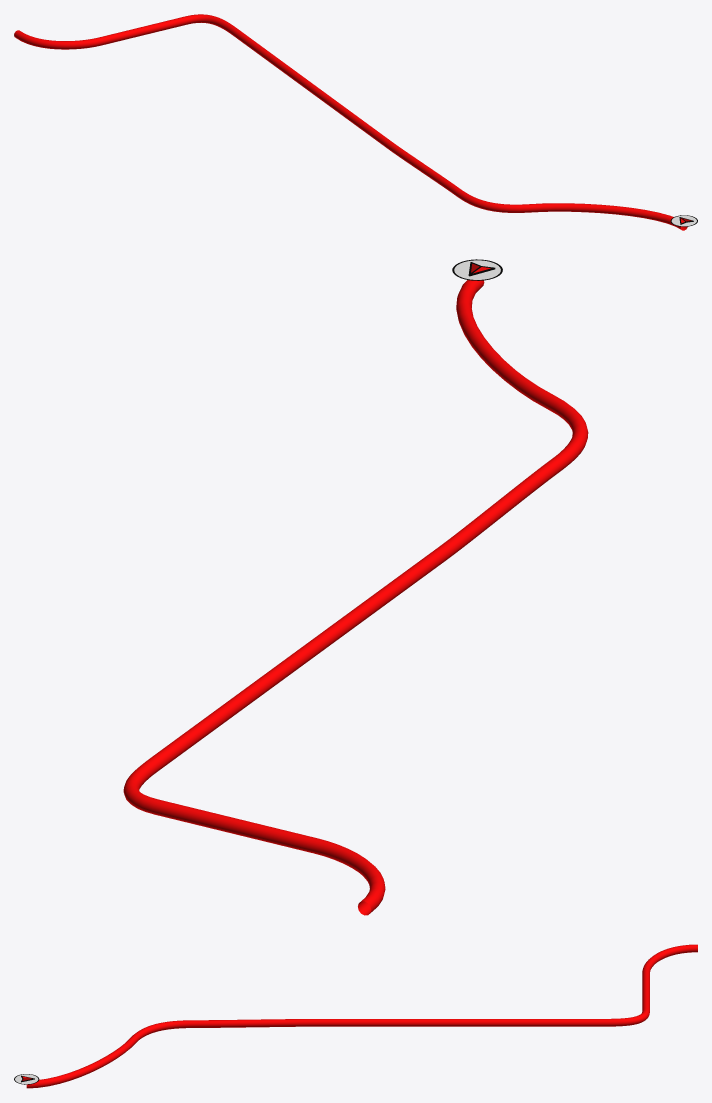
The model's file is route_17ebd69b-59d5-4482-ae43-ec24ed38d579_de_single.glb.
3 renders of one model, top to bottom at view 1: azimuth 30°, elevation 25°; view 2: azimuth 150°, elevation 25°; view 3: azimuth 270°, elevation 25°, orthographic. The views are drawn at different scales.
Parts seen in each view (by area): view 1: A6, Abteil 4; view 2: A6, Abteil 4; view 3: A6, Abteil 4.
Part boxes in pixels (box(x1,y1,x2,y2)): A6, Abteil 4: box(14, 14, 687, 230); A6, Abteil 4: box(123, 280, 588, 915); A6, Abteil 4: box(26, 944, 697, 1088).
Size of the model in its own units: 3.47 by 0.1062 by 7.
